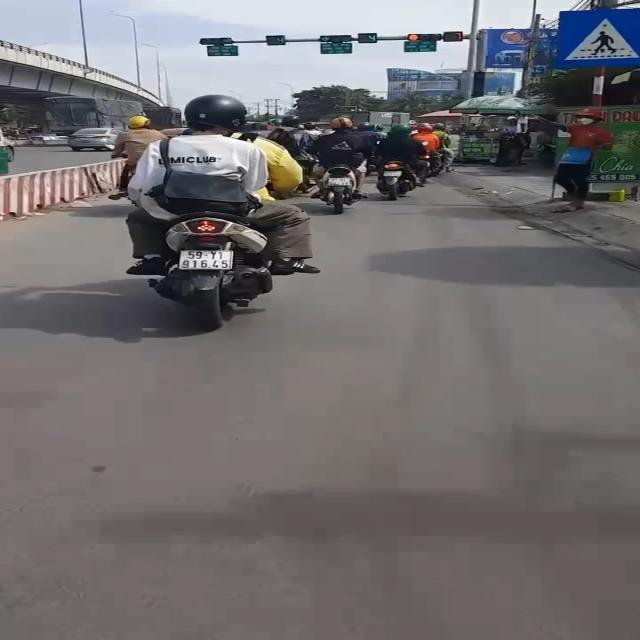224-duong-nguoi-di-bo-cat-ngang: (552, 11, 640, 67)
